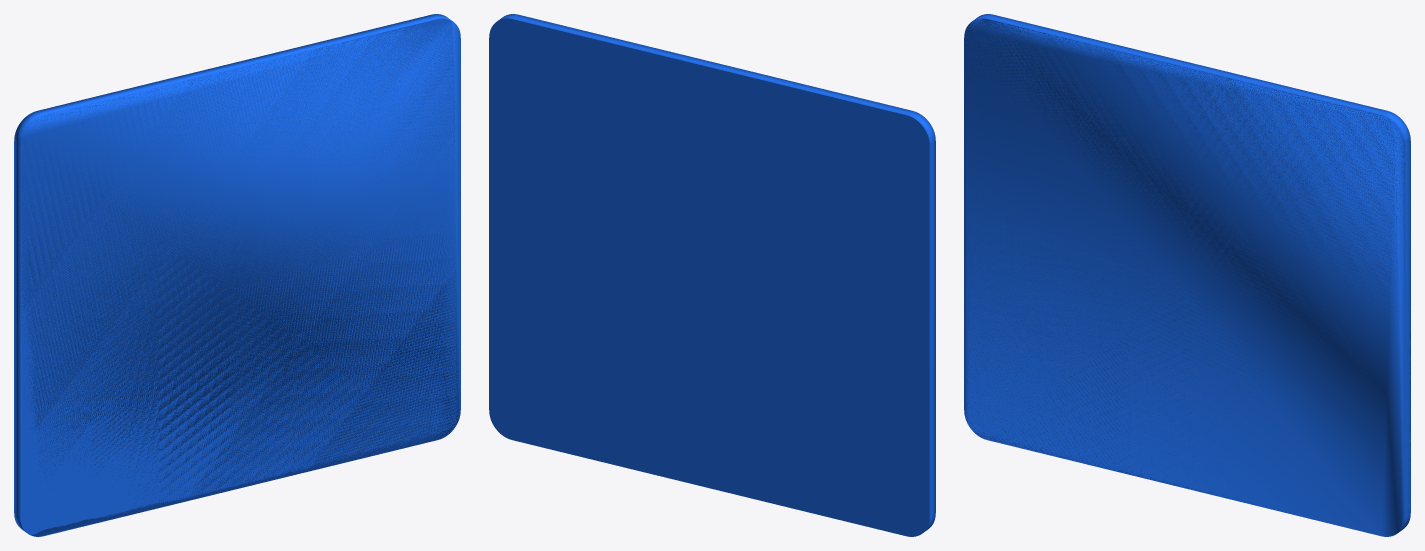
File: installation.glb
The picture shows the model from 3 angles, left to right: view 1: azimuth 30°, elevation 25°; view 2: azimuth 150°, elevation 25°; view 3: azimuth 330°, elevation 25°; orthographic projection.
Visible parts, largest first — view 1: Rectangle 5; view 2: Rectangle 5; view 3: Rectangle 5.
Part boxes in pixels (x1,y1,x2,y2): Rectangle 5: (14,14,460,536); Rectangle 5: (489,14,935,536); Rectangle 5: (964,14,1410,536).
Size of the model in its own units: 836 by 763 by 20.
